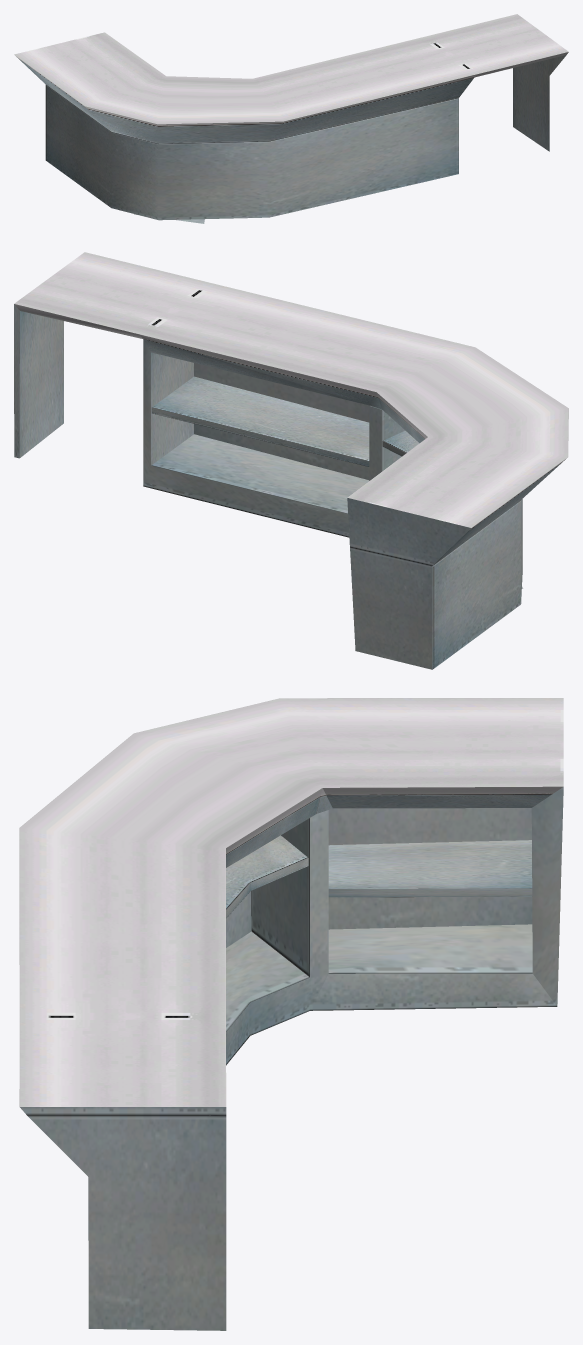
File: frn_bar_piece_curve_s2_l1.fbx
3 renders of one model, top to bottom at view 1: azimuth 30°, elevation 25°; view 2: azimuth 150°, elevation 25°; view 3: azimuth 270°, elevation 25°, orthographic. The views are drawn at different scales.
Parts seen in each view (by area): view 1: mesh_node; view 2: mesh_node; view 3: mesh_node.
Part boxes in pixels (x1,y1,x2,y2): mesh_node: (14, 14, 568, 223); mesh_node: (14, 252, 568, 669); mesh_node: (19, 698, 563, 1330).
Bounding box in the file's own units: 4.5 × 1.15 × 2.53.
Materials: 1 (1 with a texture image).
